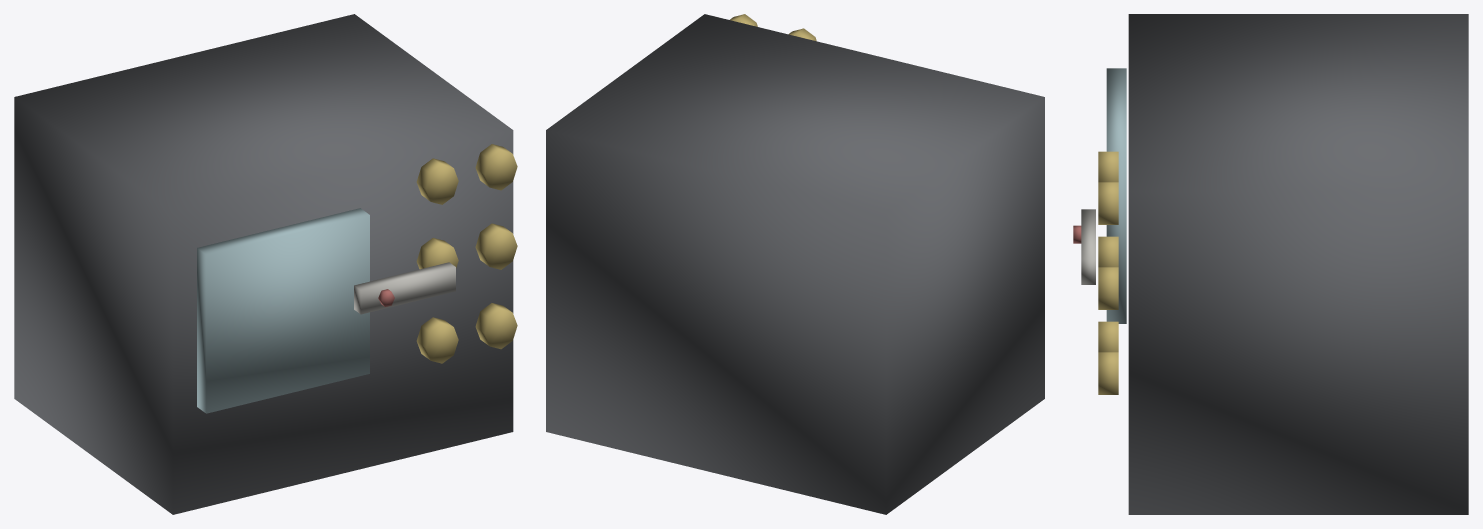
Rendered from oscilloscope__tall.glb.
3 views of the same model, side by side, from view 1: azimuth 30°, elevation 25°; view 2: azimuth 150°, elevation 25°; view 3: azimuth 270°, elevation 25° (orthographic). The views are drawn at different scales.
Parts seen in each view (by area): view 1: world; view 2: world; view 3: world.
Boxes of the visible parts, x1=… form: world: x1=14, y1=14, x2=517, y2=514; world: x1=546, y1=14, x2=1044, y2=514; world: x1=1073, y1=14, x2=1468, y2=514.
Size of the model in its own units: 0.52 by 0.4408 by 0.4885.
